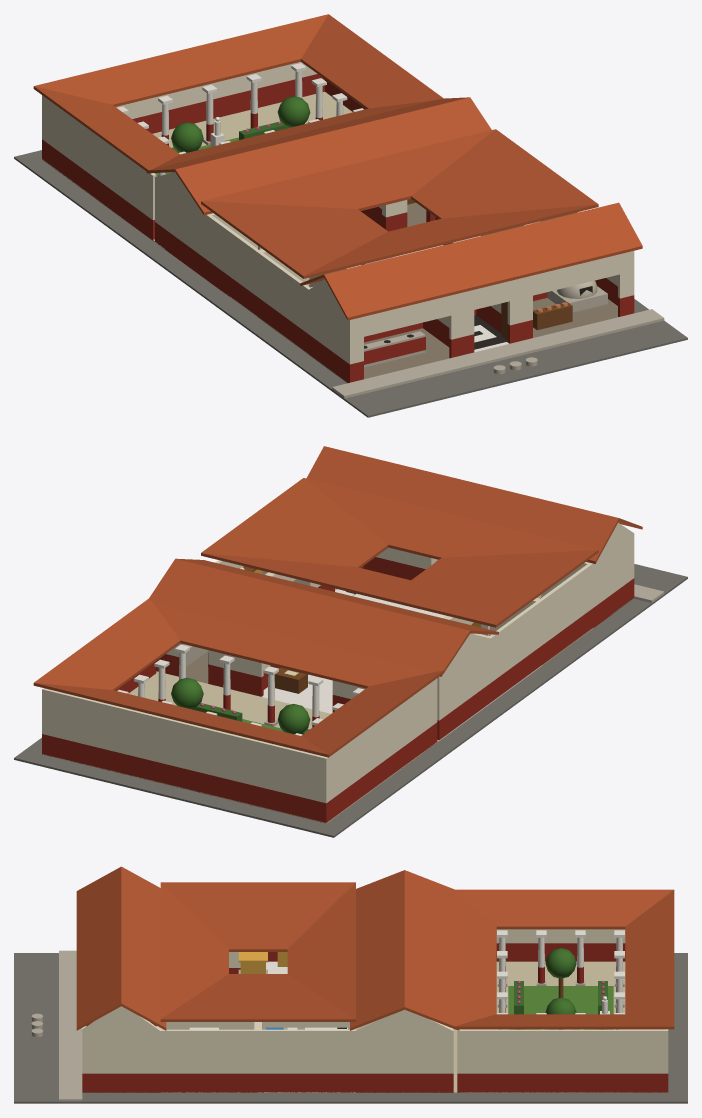
Rendered from villa.glb.
3 renders of one model, top to bottom at view 1: azimuth 30°, elevation 25°; view 2: azimuth 150°, elevation 25°; view 3: azimuth 270°, elevation 25°, orthographic. The views are drawn at different scales.
Visible parts, largest first — view 1: dach_ziegel, umgebung_strasse, tabernae_putzHell, peristyl_putzHell, peristyl_putzRot, umgebung_stein, tabernae_putzRot, cubicula_putzHell, tabernae_lehm, alae_putzHell, peristyl_marmor, triclinium_putzHell (+10 smaller); view 2: dach_ziegel, peristyl_putzHell, umgebung_strasse, peristyl_putzRot, alae_putzHell, peristyl_weg, cubicula_putzHell, triclinium_putzHell, peristyl_marmor, peristyl_blatt, tabernae_putzHell, triclinium_putzRot (+10 smaller); view 3: dach_ziegel, umgebung_strasse, peristyl_putzHell, peristyl_putzRot, cubicula_putzHell, alae_putzHell, culina_putzHell, umgebung_stein, tabernae_putzHell, peristyl_weg, dach_putzHell, peristyl_marmor (+7 smaller).
Part boxes in pixels (x1=…): dach_ziegel: x1=33, y1=14, x2=642, y2=320; umgebung_strasse: x1=14, y1=150, x2=687, y2=417; tabernae_putzHell: x1=309, y1=251, x2=634, y2=364; peristyl_putzHell: x1=42, y1=62, x2=317, y2=219; peristyl_putzRot: x1=42, y1=74, x2=365, y2=240; umgebung_stein: x1=332, y1=309, x2=664, y2=398; tabernae_putzRot: x1=309, y1=278, x2=634, y2=383; cubicula_putzHell: x1=257, y1=211, x2=580, y2=334; tabernae_lehm: x1=309, y1=298, x2=618, y2=382; alae_putzHell: x1=206, y1=213, x2=264, y2=296; peristyl_marmor: x1=117, y1=63, x2=363, y2=175; triclinium_putzHell: x1=155, y1=177, x2=206, y2=258; dach_ziegel: x1=33, y1=446, x2=642, y2=757; peristyl_putzHell: x1=42, y1=678, x2=437, y2=803; umgebung_strasse: x1=14, y1=564, x2=687, y2=837; peristyl_putzRot: x1=42, y1=661, x2=437, y2=822; alae_putzHell: x1=215, y1=560, x2=541, y2=682; peristyl_weg: x1=42, y1=671, x2=439, y2=823; cubicula_putzHell: x1=535, y1=562, x2=593, y2=645; triclinium_putzHell: x1=341, y1=639, x2=490, y2=720; peristyl_marmor: x1=117, y1=644, x2=364, y2=735; peristyl_blatt: x1=171, y1=678, x2=310, y2=734; tabernae_putzHell: x1=593, y1=533, x2=634, y2=607; triclinium_putzRot: x1=341, y1=683, x2=490, y2=739; dach_ziegel: x1=76, y1=866, x2=674, y2=1030; umgebung_strasse: x1=14, y1=953, x2=687, y2=1103; peristyl_putzHell: x1=457, y1=929, x2=668, y2=1073; peristyl_putzRot: x1=457, y1=943, x2=668, y2=1092; cubicula_putzHell: x1=160, y1=1022, x2=258, y2=1073; alae_putzHell: x1=258, y1=1022, x2=355, y2=1073; culina_putzHell: x1=356, y1=1026, x2=453, y2=1073; umgebung_stein: x1=31, y1=950, x2=82, y2=1101; tabernae_putzHell: x1=82, y1=1026, x2=160, y2=1073; peristyl_weg: x1=453, y1=961, x2=667, y2=1092; dach_putzHell: x1=82, y1=1006, x2=453, y2=1030; peristyl_marmor: x1=497, y1=930, x2=624, y2=1029.
Bounding box in the file's own units: 18 × 5.32 × 34.5.
